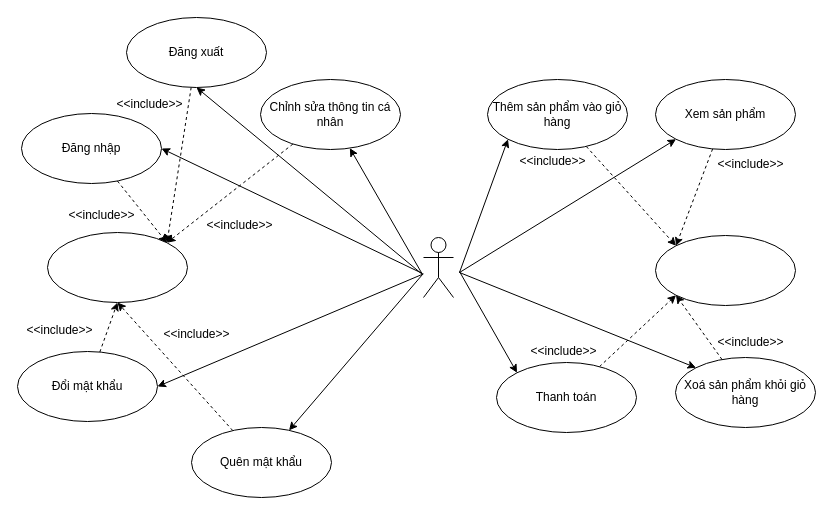
The diagram is 833 pixels wide and 515 high, and some of its shapes have lost their labels. Each missing label, with the centre of its shape:
"Người dùng" belongs at [438,267].
"Quản lý giỏ hàng" belongs at [725,270].
"Quản lý tài khoản" belongs at [117,267].
